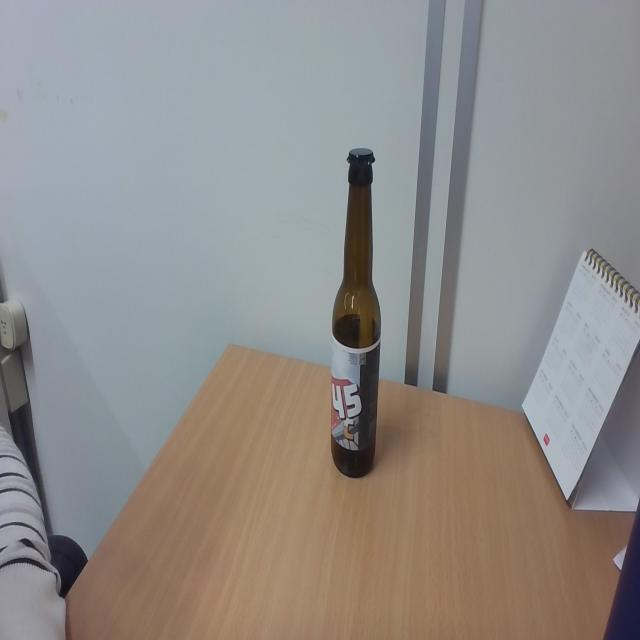Bottle: (330, 143, 382, 482)
Cap: (346, 145, 377, 169)
Label: (332, 341, 379, 448)
